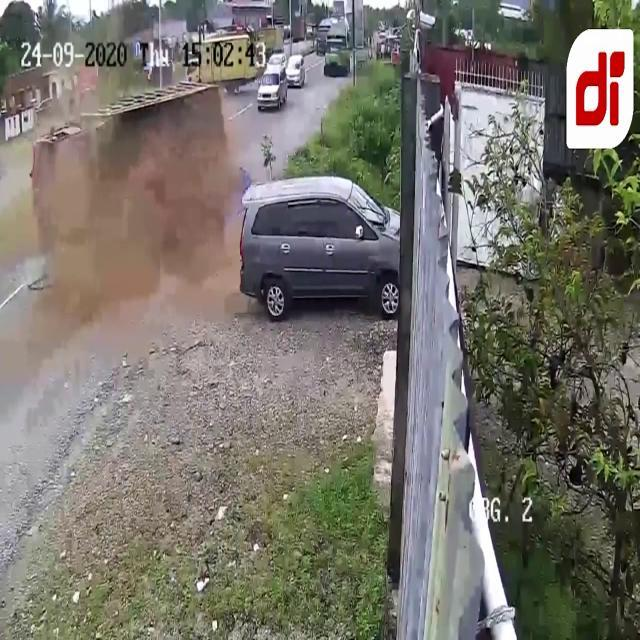multiple_accident: (21, 104, 400, 346)
normal: (230, 31, 379, 97)
